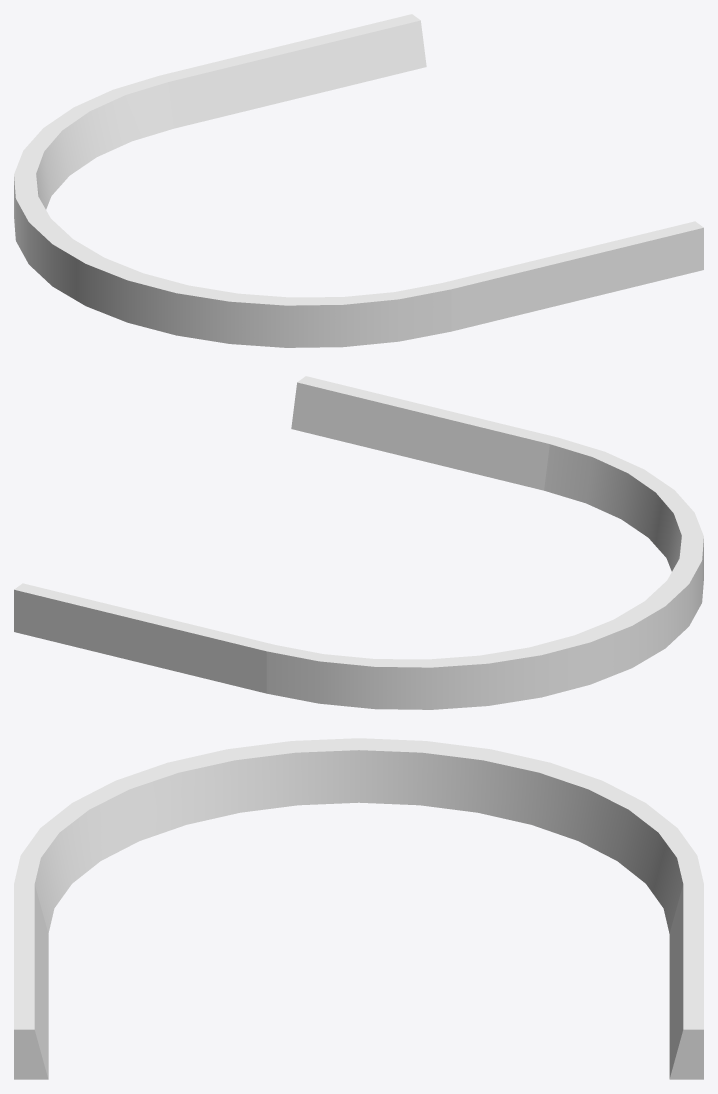
File: road-end-round-barrier.glb
3 views of the same model, one above another, from view 1: azimuth 30°, elevation 25°; view 2: azimuth 150°, elevation 25°; view 3: azimuth 270°, elevation 25° (orthographic). The views are drawn at different scales.
Parts seen in each view (by area): view 1: road-end-round-barrier; view 2: road-end-round-barrier; view 3: road-end-round-barrier.
Boxes of the visible parts, <box> form: road-end-round-barrier: <box>14,14,703,347</box>; road-end-round-barrier: <box>14,376,703,709</box>; road-end-round-barrier: <box>14,738,703,1079</box>.
Size of the model in its own units: 1 by 0.08 by 1.
1 material, 1 textured.
